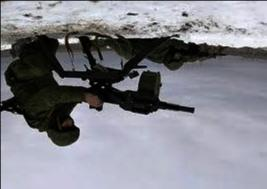gun: (55, 24, 196, 117)
